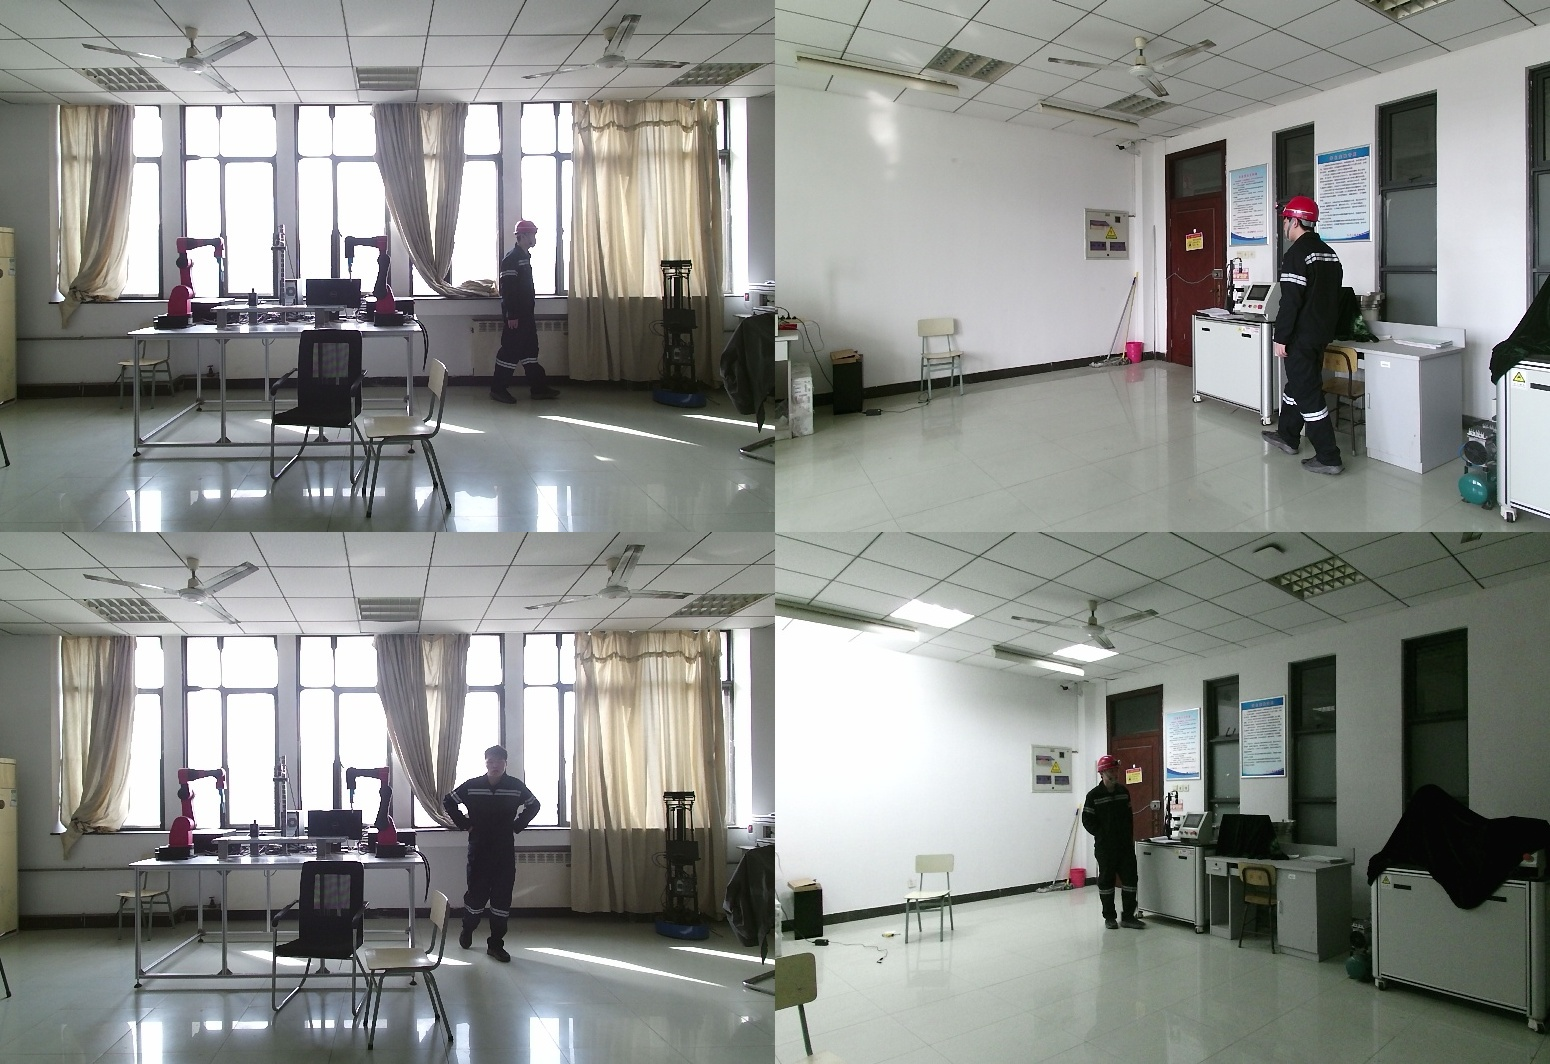person: (1270, 194, 1351, 471), (446, 750, 540, 967), (490, 220, 562, 412), (1080, 758, 1140, 934)
